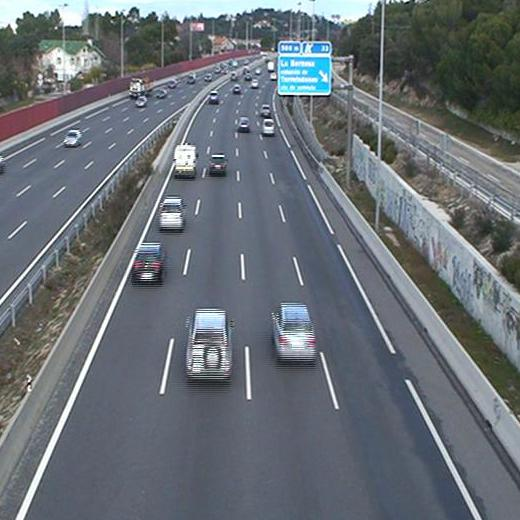car: (186, 307, 233, 381), (271, 302, 318, 361), (131, 245, 165, 280), (159, 197, 184, 231), (208, 153, 228, 172), (261, 120, 274, 133), (238, 118, 249, 129), (209, 90, 220, 100), (261, 104, 271, 114)
small-truck: (174, 144, 197, 174)
